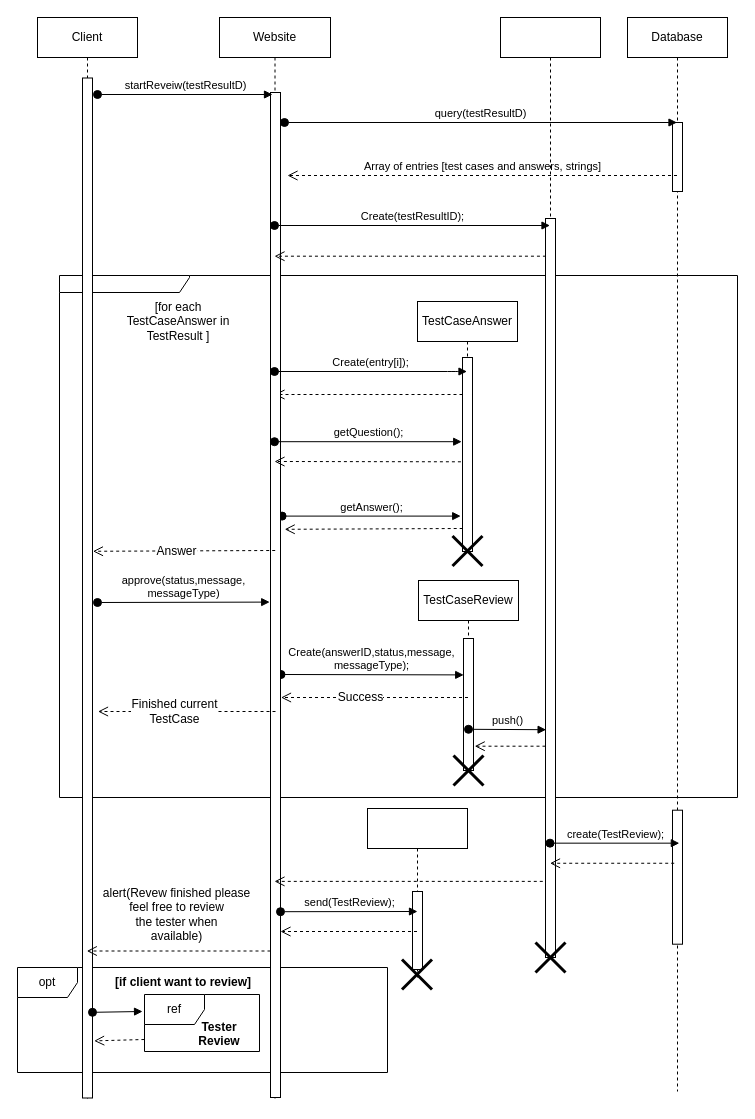
Image size: 755x1119. Some labels were removed from this diagram. Each missing label, with the box of its shape:
Loop: (58, 274, 738, 798)
Pipeline: (366, 808, 468, 980)
TestReview: (500, 16, 600, 952)
